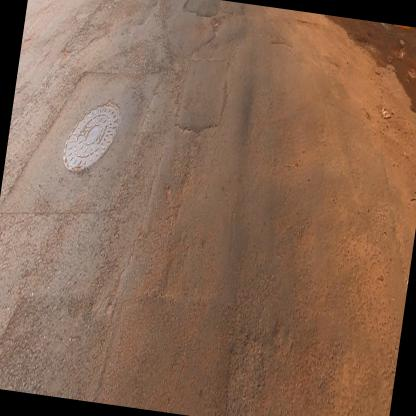manholes: (54, 75, 133, 206)
